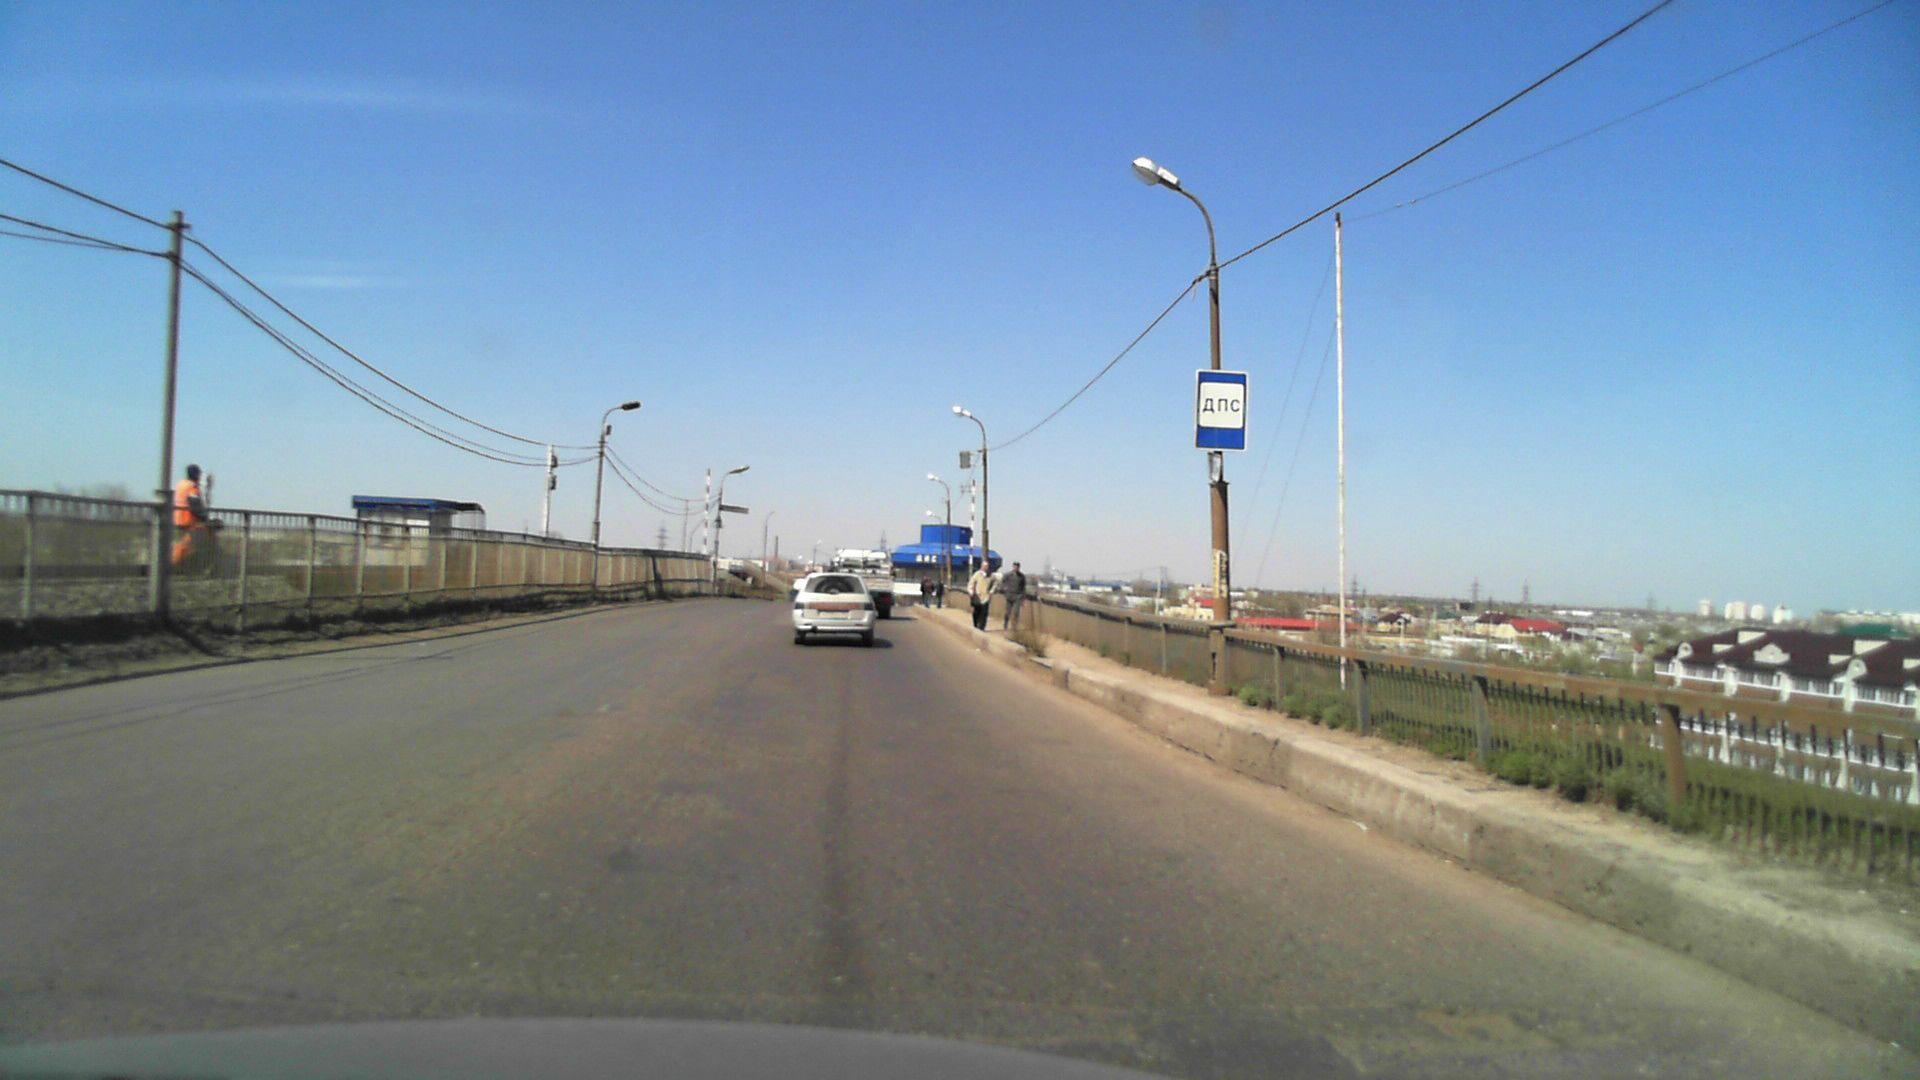7_12: (1194, 369, 1247, 452)
